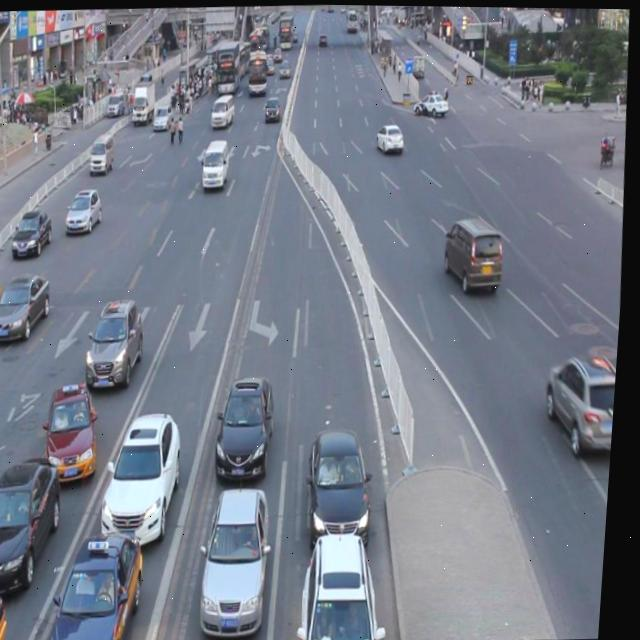car: (199, 479, 283, 639), (101, 408, 193, 547), (48, 524, 155, 640), (0, 452, 72, 599), (304, 525, 395, 640), (308, 423, 382, 547), (546, 350, 622, 452), (215, 371, 284, 482), (46, 379, 108, 486), (86, 294, 152, 392), (443, 212, 507, 295), (0, 270, 57, 343), (13, 207, 57, 257), (65, 186, 106, 233), (0, 589, 17, 640), (0, 269, 6, 333)
truck: (202, 137, 231, 187), (89, 132, 116, 175)
